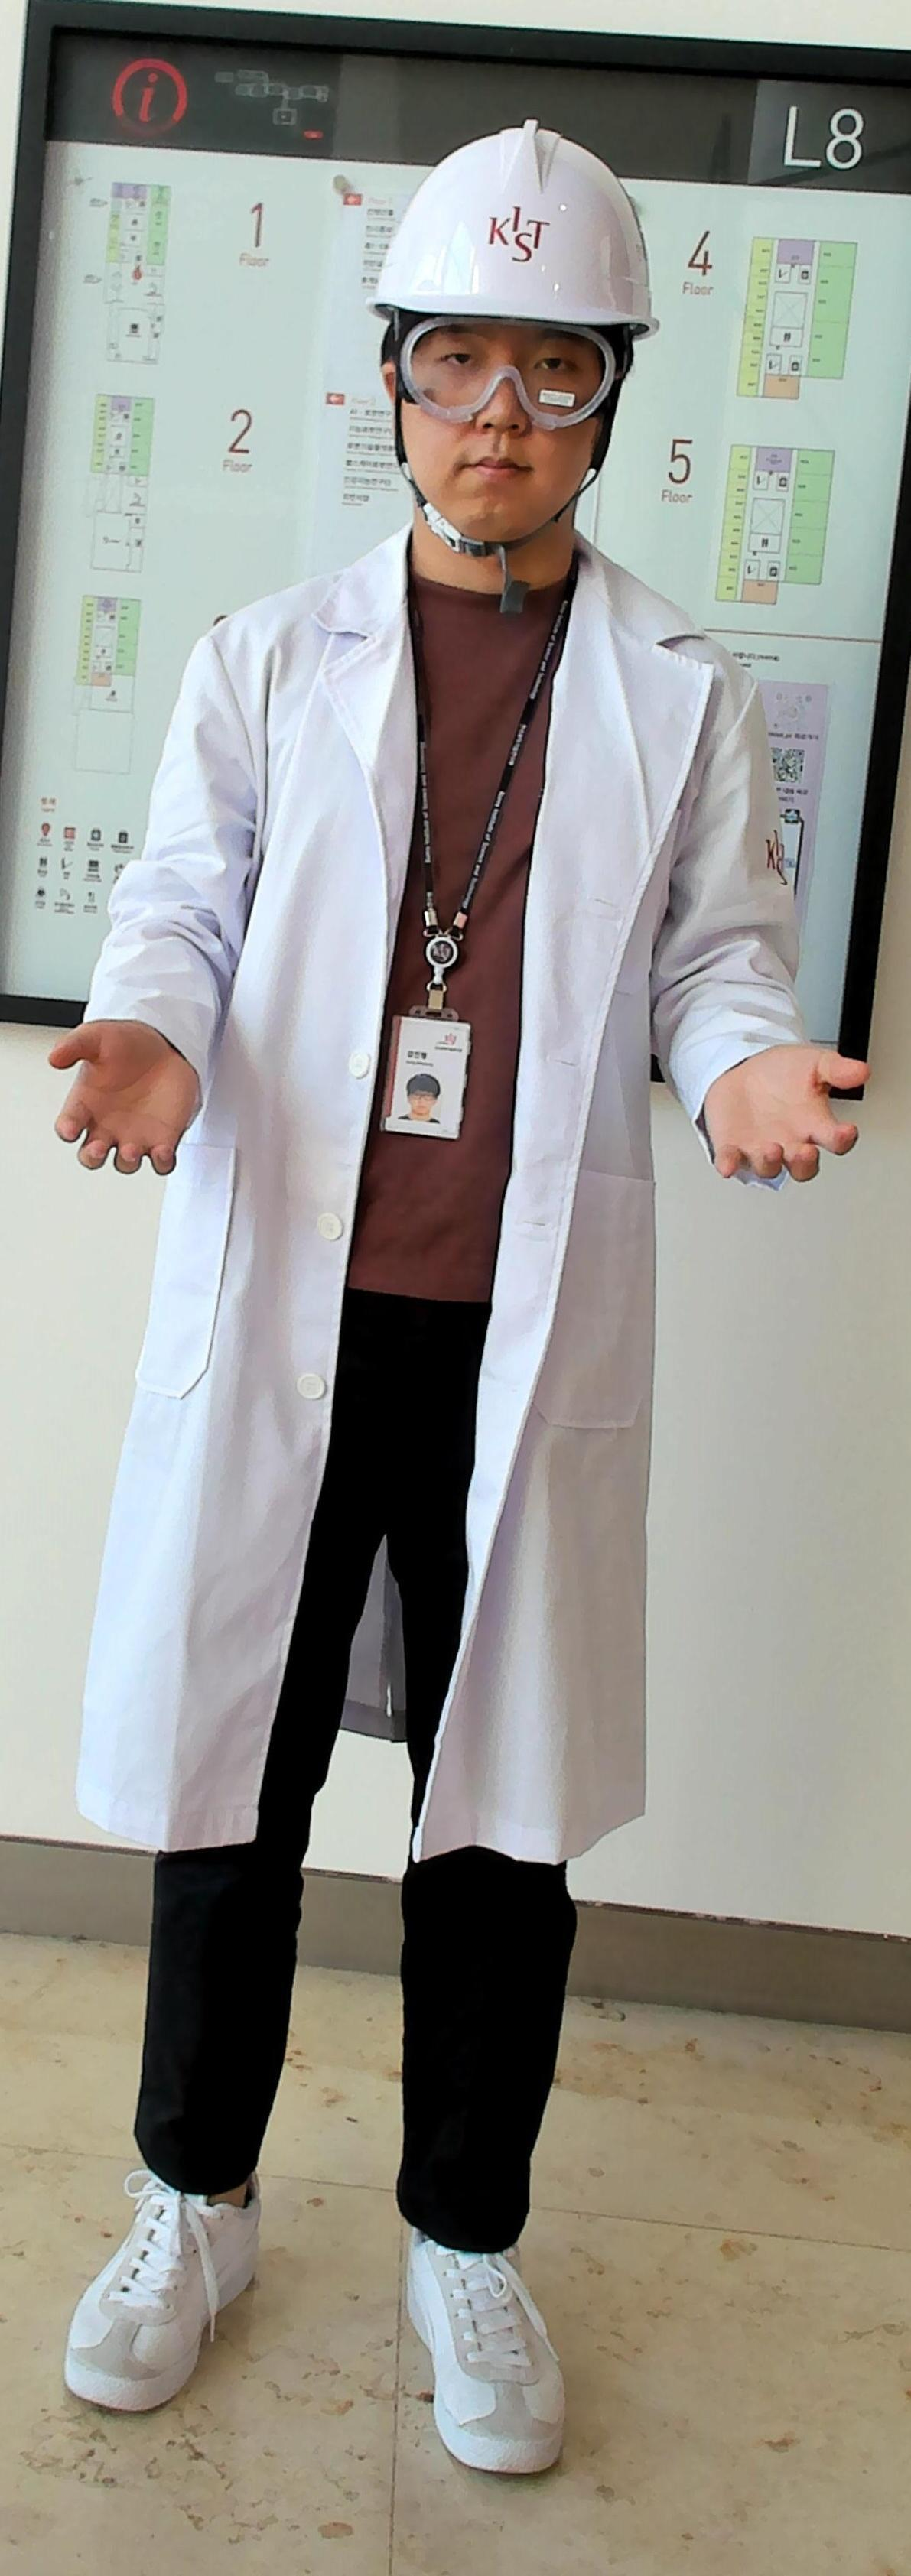lab_coat: (179, 667, 714, 1806)
